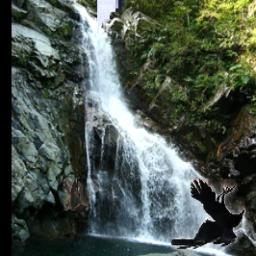Crow: (96, 0, 184, 256), (170, 179, 244, 250)
Swallow: (64, 177, 89, 211)
